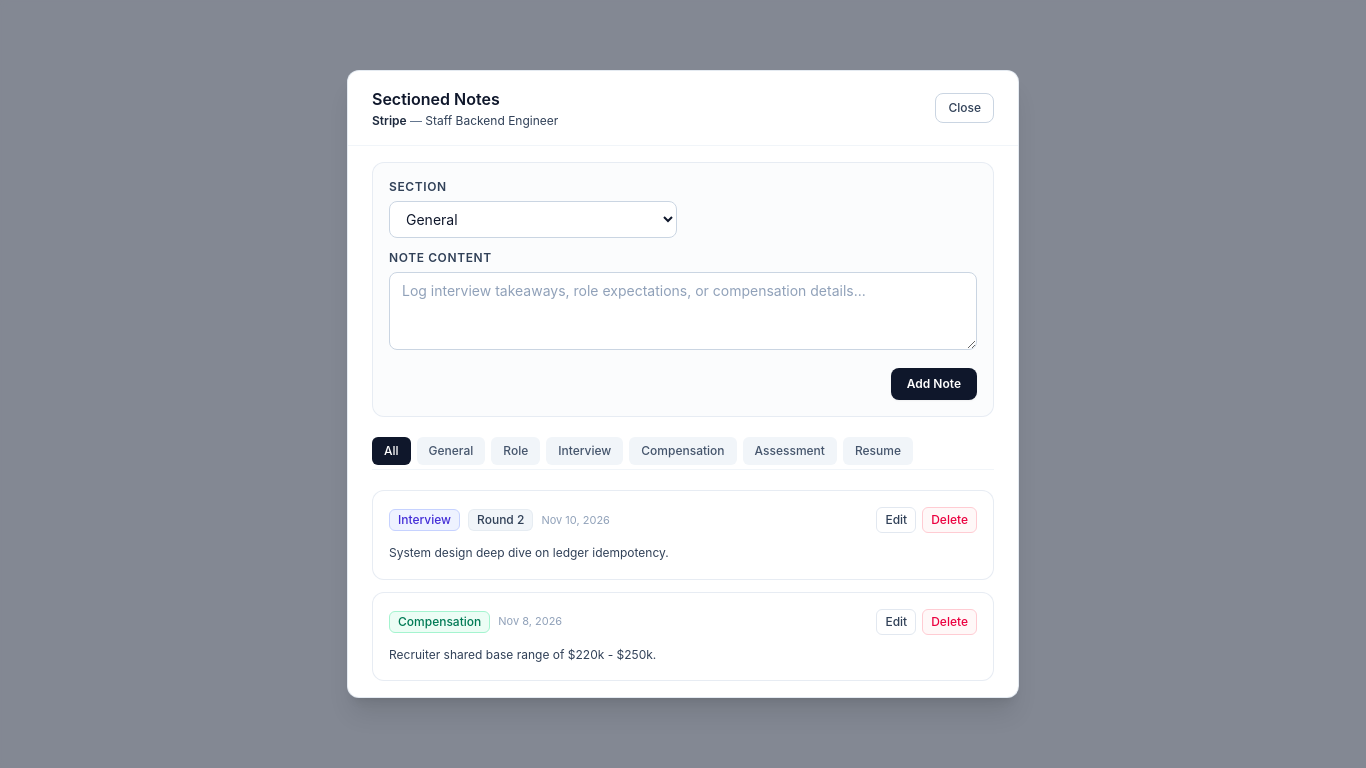
JobNotesModal › allows inline editing of an existing note
Expected: the text "Recruiter shared base range of $220k - $250k." is shown, top-left (389, 646), bottom-right (656, 662)
Click the button "Edit" in the row of "Nov 8, 2026". click: (896, 622)
box: top-left (876, 608), bottom-right (916, 634)
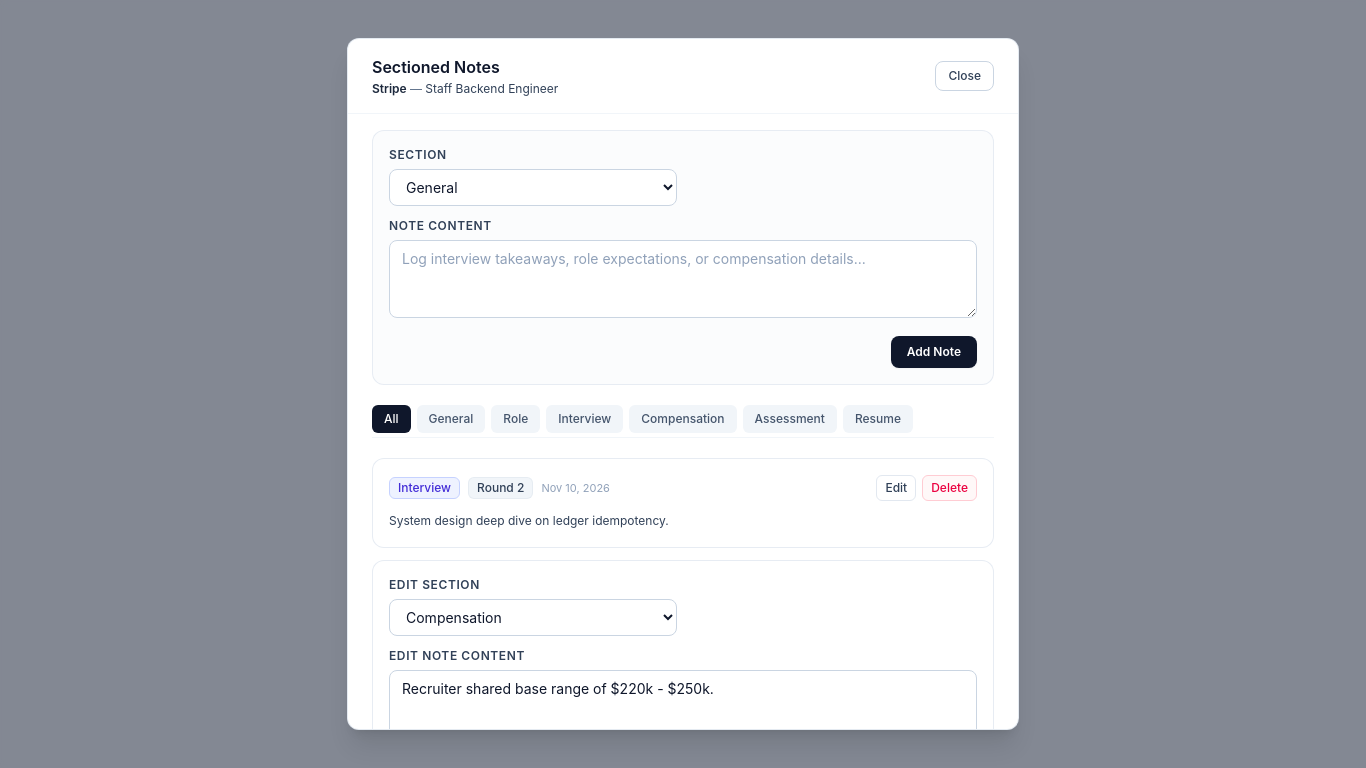
Select "Role" in the dropdown labelled "Edit Section". click: (533, 617)
box: top-left (389, 599), bottom-right (677, 636)
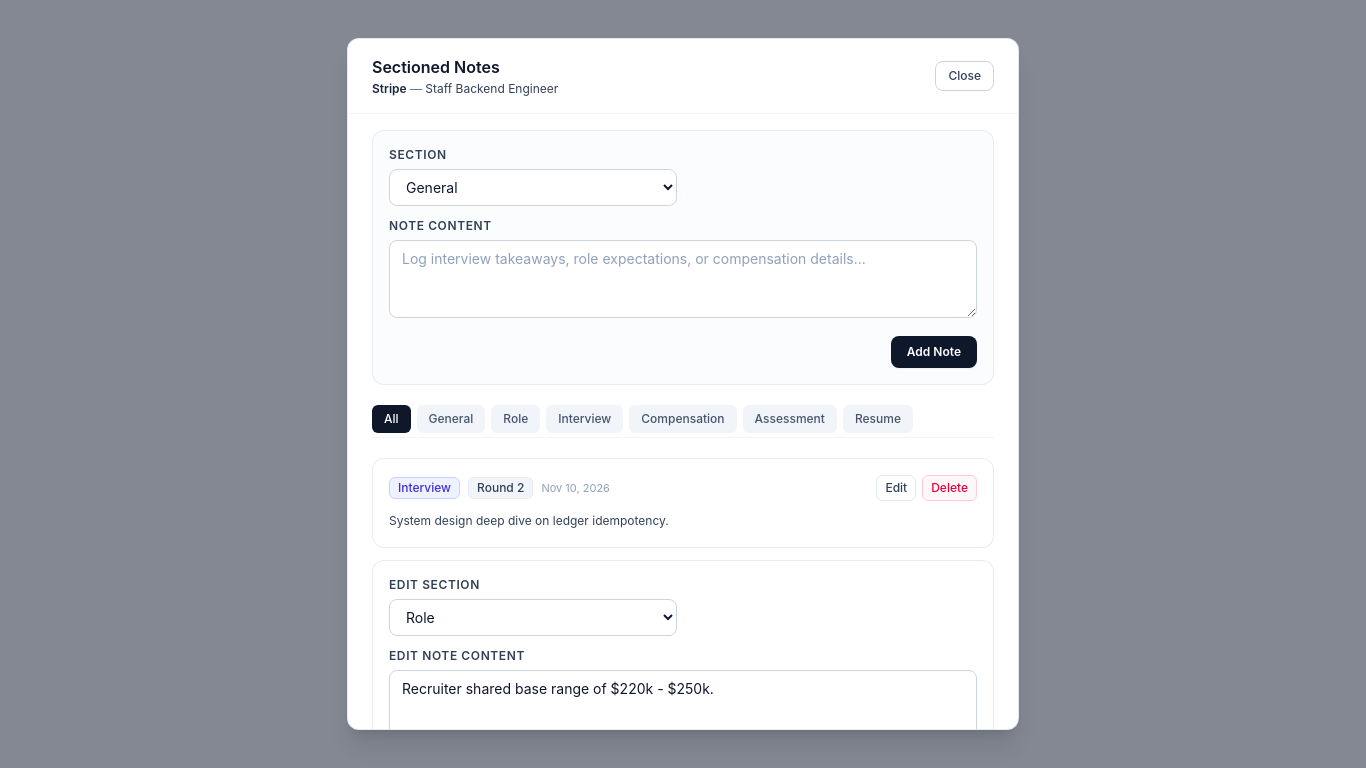
Replace the text in the text box labelled "Edit Note Content" with "Owns core payment settlement pipeline.". click: (683, 709)
box: top-left (389, 670), bottom-right (977, 748)
(page scrolled)
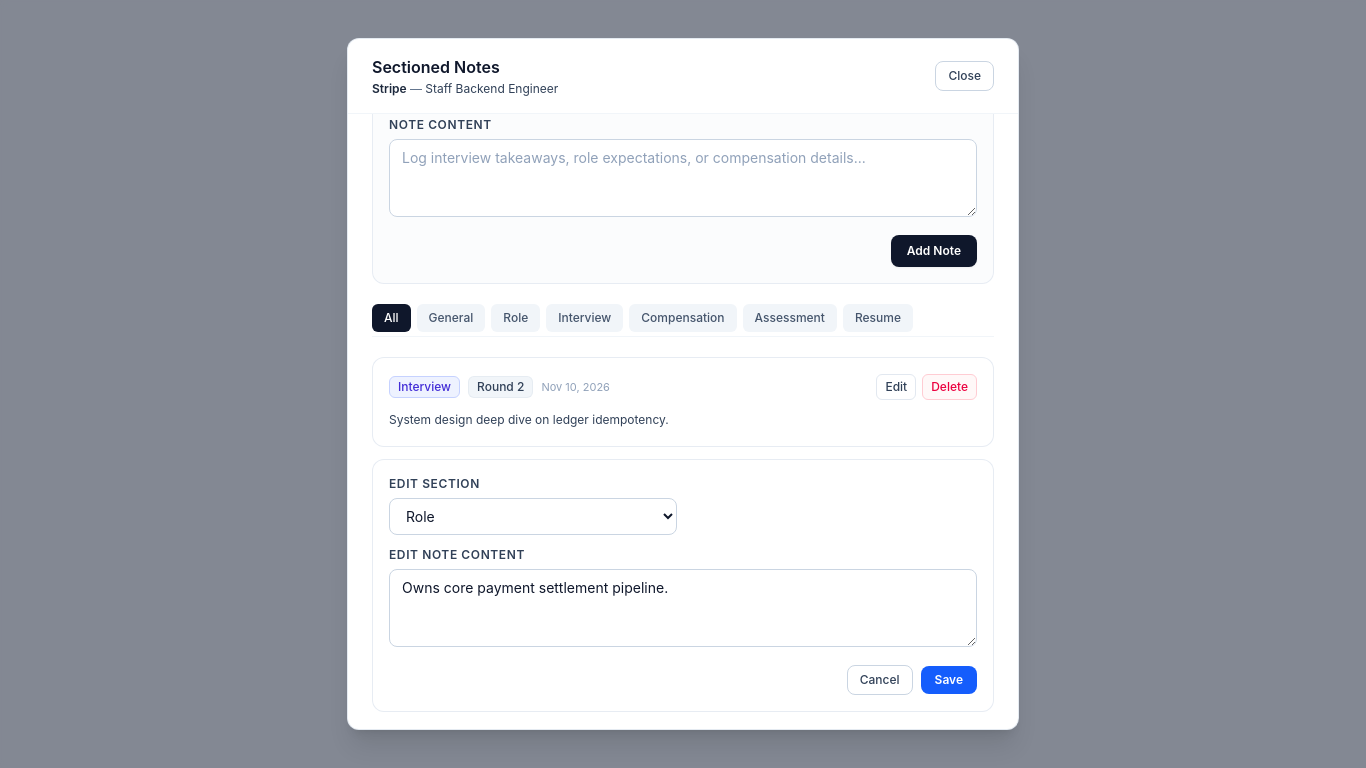
Click the button "Save". click: (949, 680)
box: top-left (921, 666), bottom-right (977, 694)
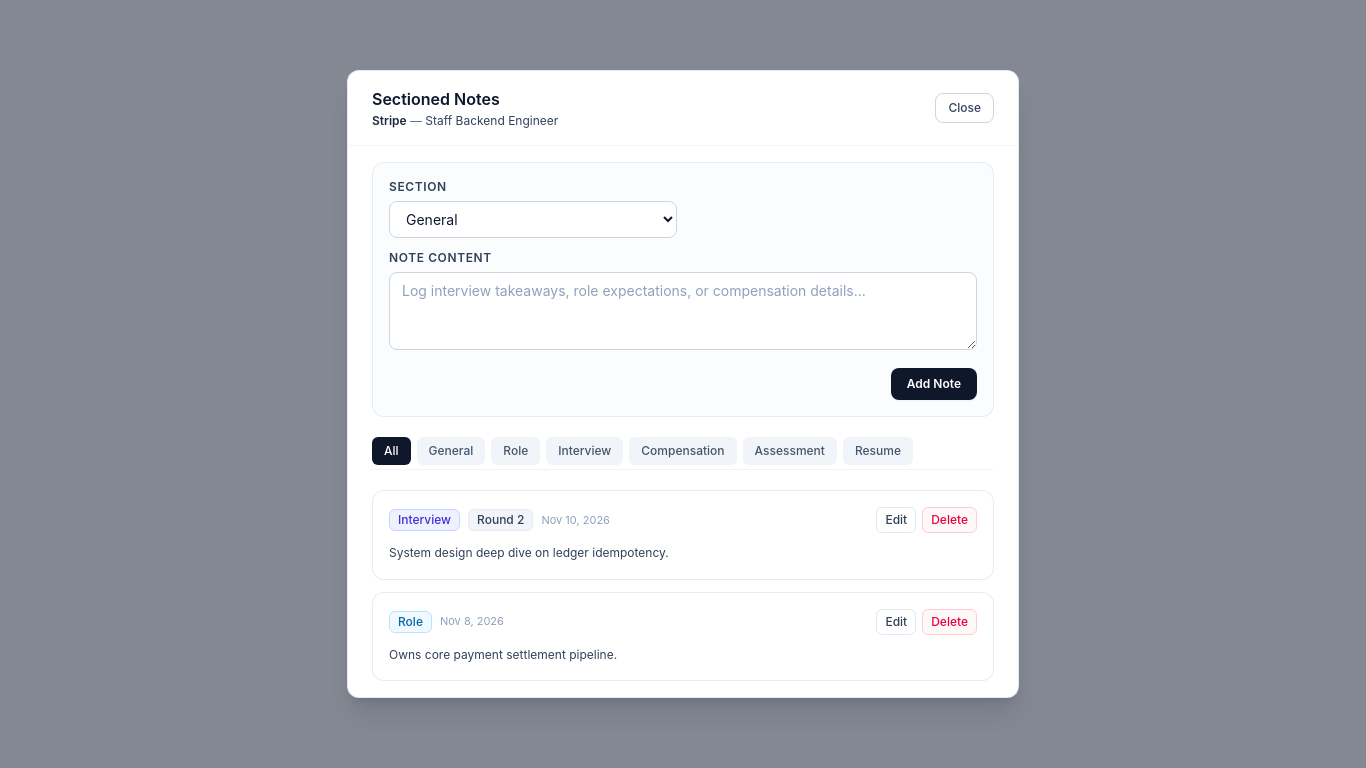
Expected: the text "Owns core payment settlement pipeline." is shown, top-left (389, 646), bottom-right (617, 662)
